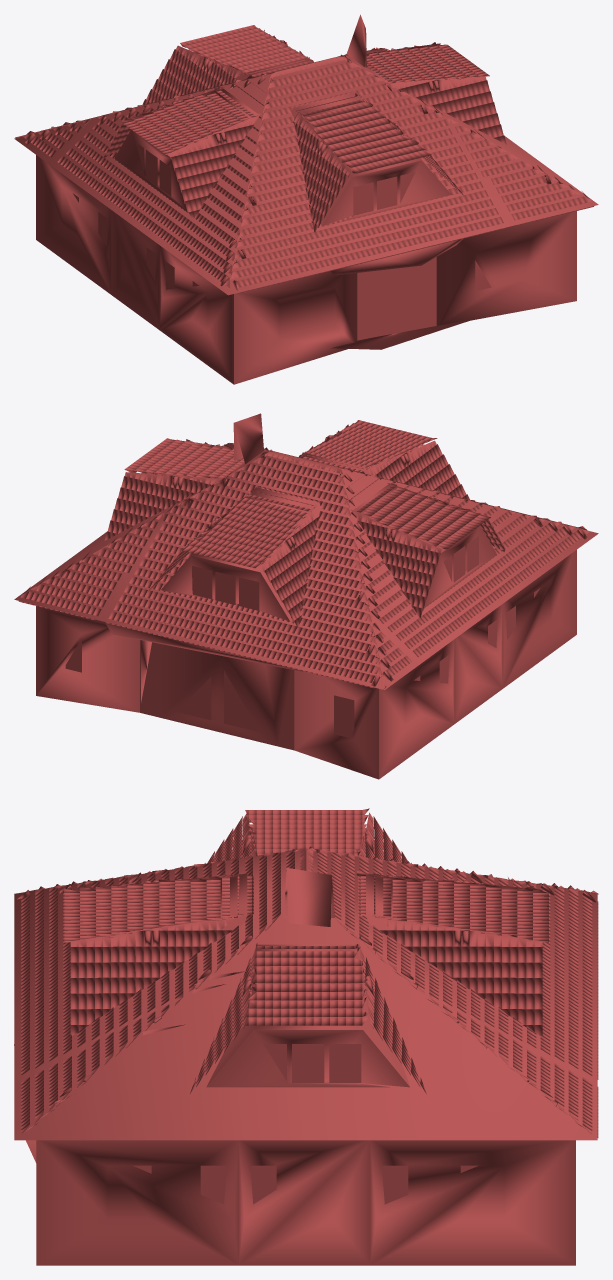
The model's file is hotel.glb.
The picture shows the model from 3 angles, top to bottom: view 1: azimuth 30°, elevation 25°; view 2: azimuth 150°, elevation 25°; view 3: azimuth 270°, elevation 25°; orthographic projection. The views are drawn at different scales.
Visible parts, largest first — view 1: build51; view 2: build51; view 3: build51.
Boxes of the visible parts, bbox=[...] form: build51: bbox=[14, 14, 598, 384]; build51: bbox=[14, 413, 598, 779]; build51: bbox=[14, 808, 598, 1265].
Size of the model in its own units: 484 by 291 by 485.
